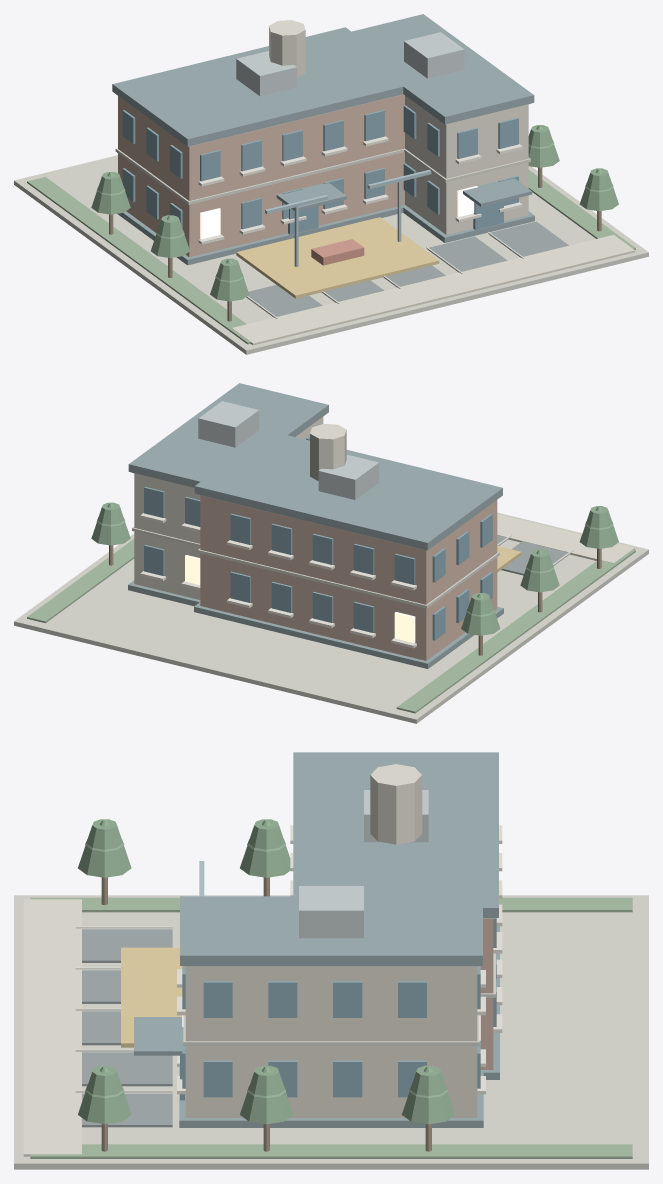
File: remaster_education.glb
3 views of the same model, one above another, from view 1: azimuth 30°, elevation 25°; view 2: azimuth 150°, elevation 25°; view 3: azimuth 270°, elevation 25° (orthographic). The views are drawn at different scales.
Parts seen in each view (by area): view 1: remaster_education roof, remaster_education brick, remaster_education cream, remaster_education stone, remaster_education glass, remaster_education gold, remaster_education leaf, remaster_education asphalt, remaster_education green, remaster_education metal, remaster_education white, remaster_education blue (+3 smaller); view 2: remaster_education stone, remaster_education roof, remaster_education brick, remaster_education cream, remaster_education glass, remaster_education green, remaster_education leaf, remaster_education metal, remaster_education white, remaster_education warm, remaster_education asphalt; view 3: remaster_education stone, remaster_education cream, remaster_education roof, remaster_education green, remaster_education leaf, remaster_education asphalt, remaster_education glass, remaster_education gold, remaster_education metal, remaster_education white, remaster_education brick, remaster_education bark.
Boxes of the visible parts, bbox=[...] form: remaster_education roof: bbox=[112, 14, 534, 265]; remaster_education brick: bbox=[118, 94, 404, 257]; remaster_education cream: bbox=[232, 20, 635, 345]; remaster_education stone: bbox=[14, 94, 648, 354]; remaster_education glass: bbox=[122, 105, 518, 234]; remaster_education gold: bbox=[236, 217, 439, 298]; remaster_education leaf: bbox=[91, 125, 618, 301]; remaster_education asphalt: bbox=[246, 221, 568, 317]; remaster_education green: bbox=[27, 170, 635, 344]; remaster_education metal: bbox=[236, 32, 464, 96]; remaster_education white: bbox=[198, 136, 524, 318]; remaster_education blue: bbox=[265, 169, 431, 266]; remaster_education stone: bbox=[14, 472, 648, 723]; remaster_education roof: bbox=[128, 383, 503, 668]; remaster_education brick: bbox=[200, 495, 497, 660]; remaster_education cream: bbox=[134, 417, 635, 599]; remaster_education glass: bbox=[144, 436, 492, 640]; remaster_education green: bbox=[27, 539, 635, 713]; remaster_education leaf: bbox=[91, 502, 618, 635]; remaster_education metal: bbox=[198, 401, 379, 499]; remaster_education white: bbox=[140, 513, 573, 648]; remaster_education warm: bbox=[185, 555, 415, 642]; remaster_education asphalt: bbox=[497, 535, 569, 575]; remaster_education stone: bbox=[14, 895, 648, 1169]; remaster_education cream: bbox=[23, 764, 477, 1156]; remaster_education roof: bbox=[134, 752, 499, 1127]; remaster_education green: bbox=[30, 897, 632, 1158]; remaster_education leaf: bbox=[78, 819, 455, 1124]; remaster_education asphalt: bbox=[82, 929, 172, 1127]; remaster_education glass: bbox=[180, 918, 496, 1100]; remaster_education gold: bbox=[121, 947, 182, 1047]; remaster_education metal: bbox=[299, 790, 428, 938]; remaster_education white: bbox=[75, 825, 502, 1094]; remaster_education brick: bbox=[480, 919, 493, 1069]; remaster_education bark: bbox=[101, 877, 431, 1151].
Bounding box in the file's own units: 19.65 × 8.4 × 19.6.
